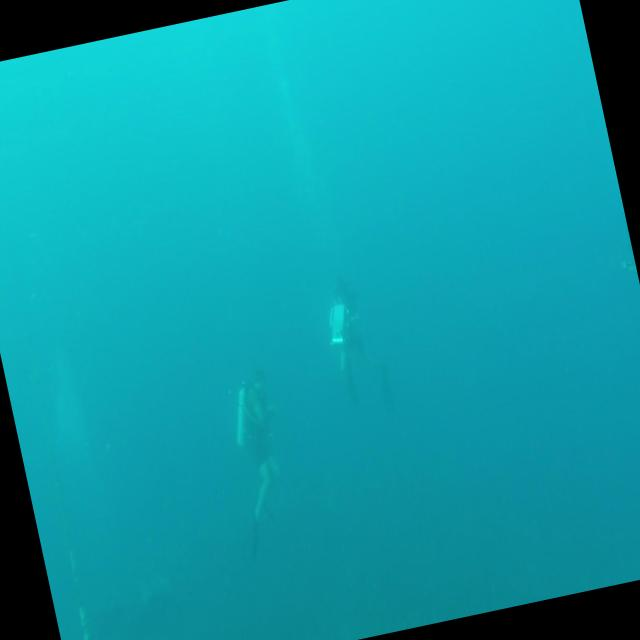human: (212, 362, 305, 558), (316, 270, 394, 413), (607, 202, 640, 299)
